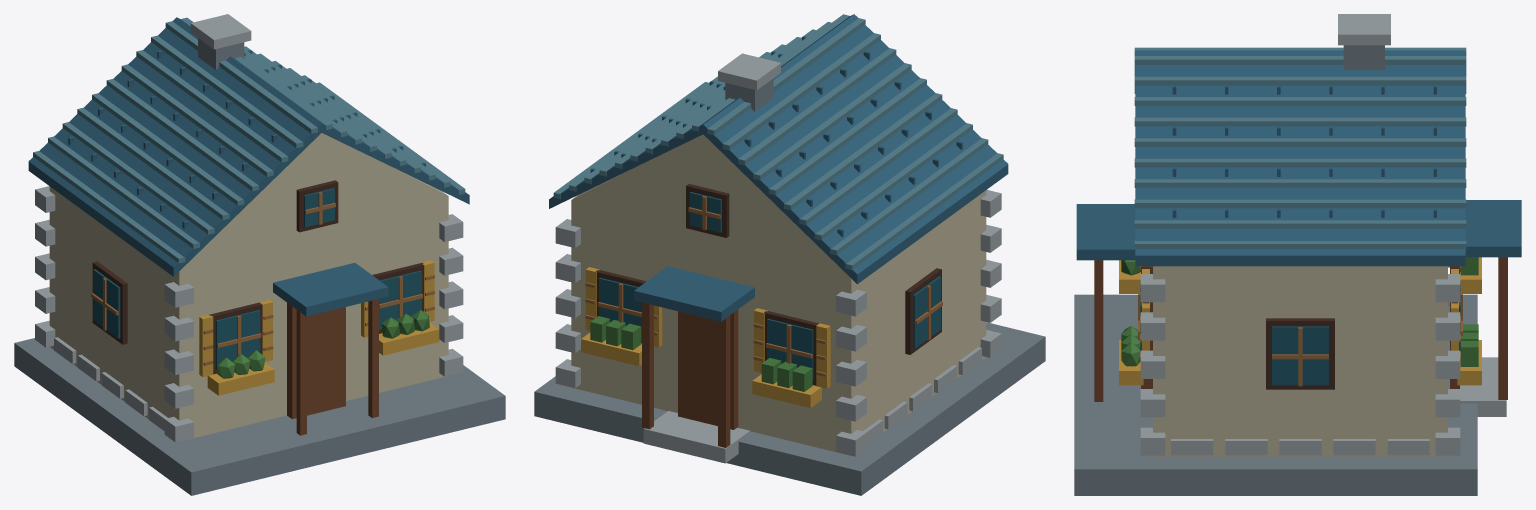
The model's file is Blockland_VillageHouse_Showcase.glb.
The picture shows the model from 3 angles, left to right: view 1: azimuth 30°, elevation 25°; view 2: azimuth 150°, elevation 25°; view 3: azimuth 270°, elevation 25°; orthographic projection. The views are drawn at different scales.
Visible parts, largest first — view 1: Blockland_VillageHouse_Showcase; view 2: Blockland_VillageHouse_Showcase; view 3: Blockland_VillageHouse_Showcase.
Boxes of the visible parts, left/top/right/bottom form: Blockland_VillageHouse_Showcase: left=14, top=14, right=505, bottom=495; Blockland_VillageHouse_Showcase: left=534, top=14, right=1045, bottom=495; Blockland_VillageHouse_Showcase: left=1074, top=14, right=1521, bottom=495.
Bounding box in the file's own units: 4.2 × 4.31 × 4.55.
